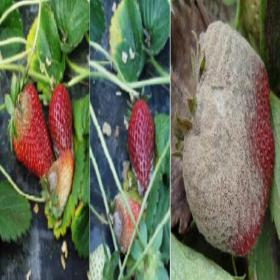Gray Mold: (182, 21, 276, 258), (44, 149, 74, 220), (113, 194, 135, 253)
